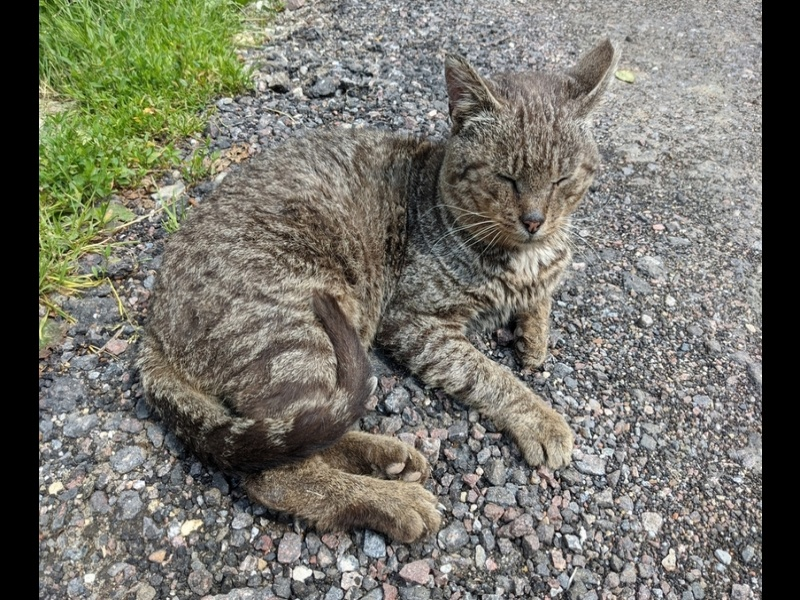cat: (134, 32, 621, 551)
